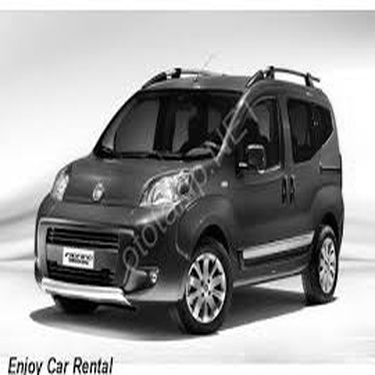car: (31, 53, 345, 338)
